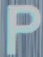Parking: (3, 4, 41, 56)
